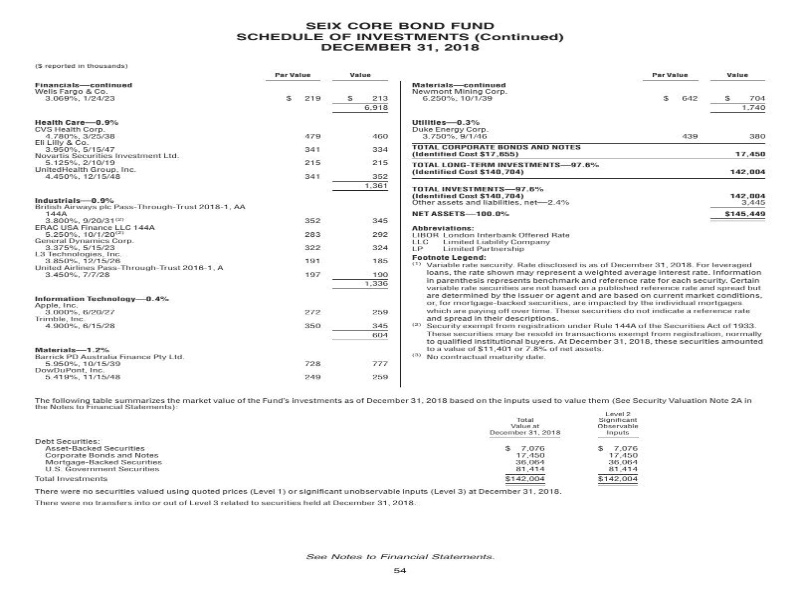table: (28, 57, 408, 394), (394, 63, 789, 255)
